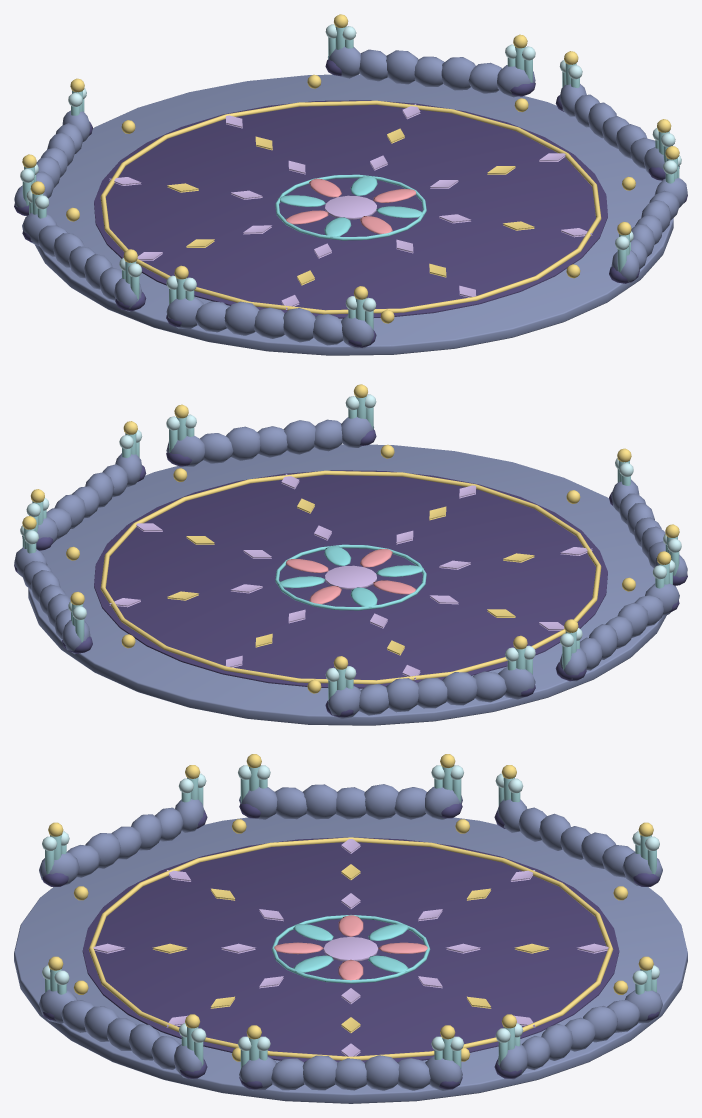
Rendered from dungeon_arena.glb.
The picture shows the model from 3 angles, top to bottom: view 1: azimuth 30°, elevation 25°; view 2: azimuth 150°, elevation 25°; view 3: azimuth 270°, elevation 25°; orthographic projection. The views are drawn at different scales.
Visible parts, largest first — view 1: Fixed_Detail, Tint_Surface, Trim_Detail; view 2: Fixed_Detail, Tint_Surface, Trim_Detail; view 3: Fixed_Detail, Tint_Surface, Trim_Detail.
Part boxes in pixels (x1,y1,x2,y2): Fixed_Detail: [14, 14, 687, 347]; Tint_Surface: [14, 46, 687, 355]; Trim_Detail: [22, 26, 679, 330]; Fixed_Detail: [14, 384, 687, 717]; Tint_Surface: [14, 417, 687, 725]; Trim_Detail: [22, 396, 679, 701]; Fixed_Detail: [42, 754, 659, 1089]; Tint_Surface: [14, 784, 687, 1103]; Trim_Detail: [45, 766, 656, 1068].
Size of the model in its own units: 54 by 6.37 by 54.
